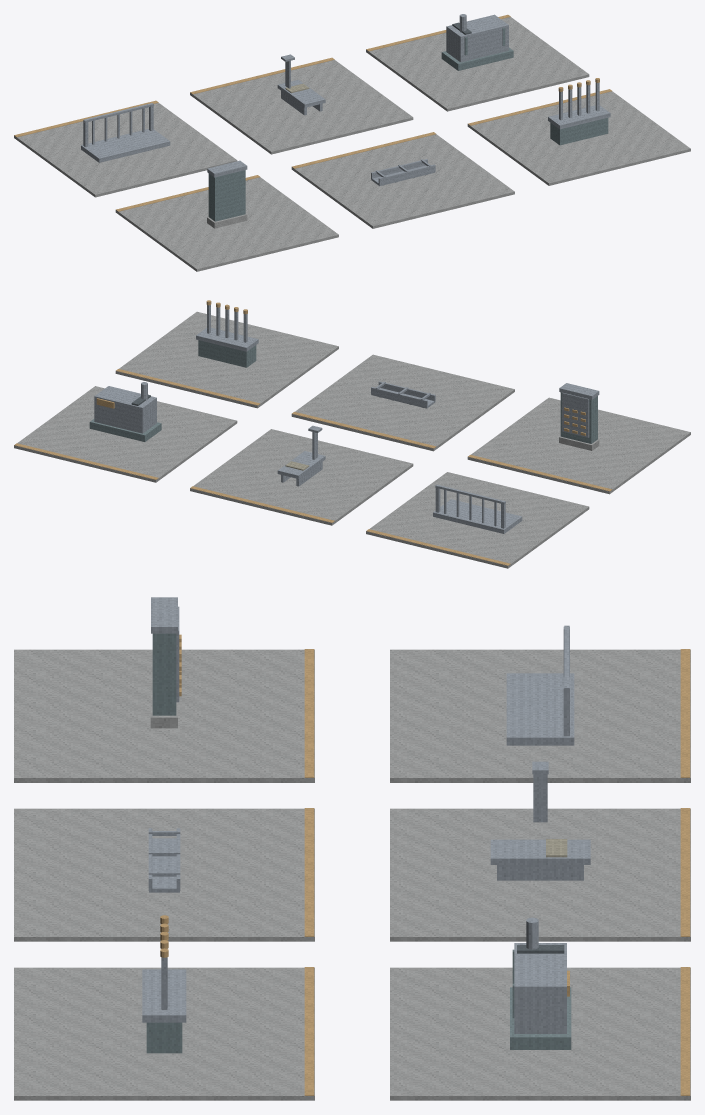
File: level_blockout_kit_wld_17_p02.glb
The picture shows the model from 3 angles, top to bottom: view 1: azimuth 30°, elevation 25°; view 2: azimuth 150°, elevation 25°; view 3: azimuth 270°, elevation 25°; orthographic projection. The views are drawn at different scales.
Parts seen in each view (by area): view 1: level_blockout_kit_wld_17_p02; view 2: level_blockout_kit_wld_17_p02; view 3: level_blockout_kit_wld_17_p02.
Boxes of the visible parts, box(x1,y1,x2,y2) form: level_blockout_kit_wld_17_p02: box(14, 14, 690, 271); level_blockout_kit_wld_17_p02: box(14, 300, 690, 568); level_blockout_kit_wld_17_p02: box(14, 597, 690, 1100).
Bounding box in the file's own units: 19.65 × 2.19 × 12.6.
6 materials, 6 textured.
